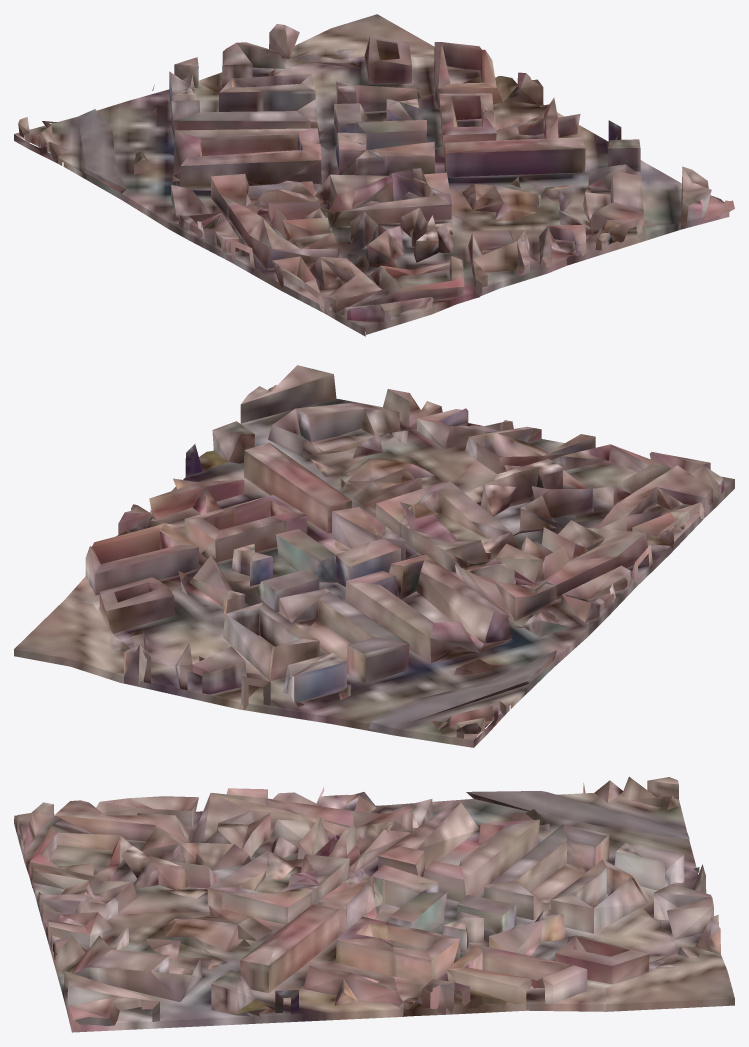
3 views of the same model, one above another, from view 1: azimuth 30°, elevation 25°; view 2: azimuth 150°, elevation 25°; view 3: azimuth 270°, elevation 25° (orthographic). The views are drawn at different scales.
Parts seen in each view (by area): view 1: Mesh_0; view 2: Mesh_0; view 3: Mesh_0.
Part boxes in pixels (bbox=[...]): Mesh_0: bbox=[14, 14, 734, 336]; Mesh_0: bbox=[14, 365, 734, 747]; Mesh_0: bbox=[14, 776, 734, 1032].
Size of the model in its own units: 540 by 54.66 by 659.
2 materials, 2 textured.
